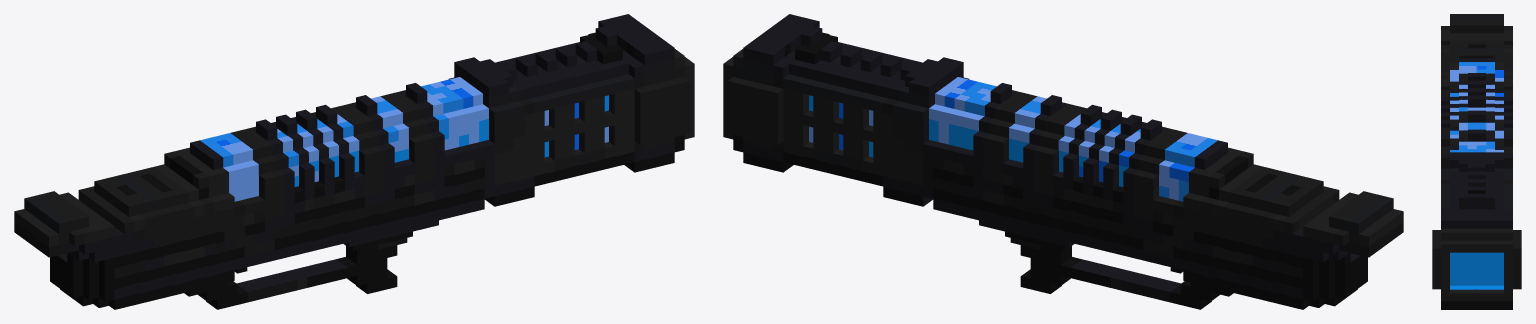
The model's file is plasmagun1.obj.
3 renders of one model, left to right at view 1: azimuth 30°, elevation 25°; view 2: azimuth 150°, elevation 25°; view 3: azimuth 270°, elevation 25°, orthographic. The views are drawn at different scales.
Visible parts, largest first — view 1: plasmagun1-optimized_plasmagun1.002; view 2: plasmagun1-optimized_plasmagun1.002; view 3: plasmagun1-optimized_plasmagun1.002.
Part boxes in pixels (x1=…): plasmagun1-optimized_plasmagun1.002: x1=14, y1=14, x2=694, y2=309; plasmagun1-optimized_plasmagun1.002: x1=723, y1=14, x2=1403, y2=309; plasmagun1-optimized_plasmagun1.002: x1=1432, y1=14, x2=1521, y2=309.
Size of the model in its own units: 122 by 36.1 by 19.
